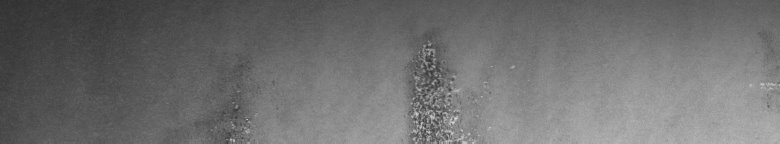hc: (402, 30, 515, 136)
